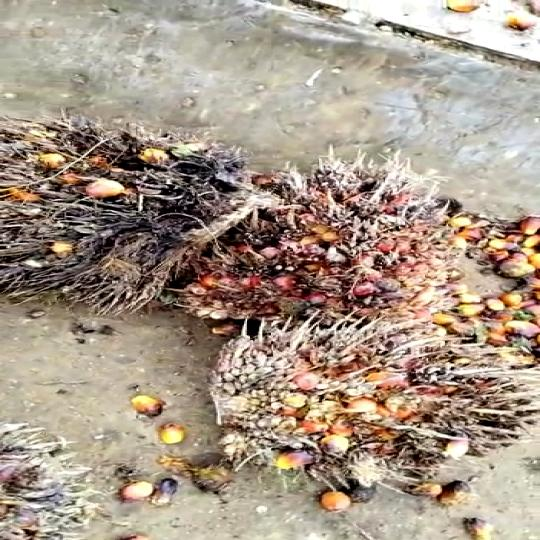terlalu masak: (210, 308, 540, 483), (0, 116, 278, 302), (176, 167, 461, 322)
